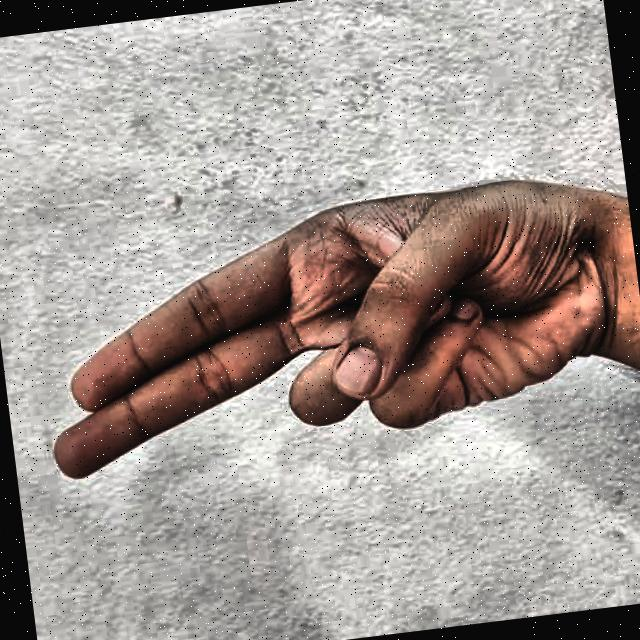Ha: (17, 124, 640, 595)
